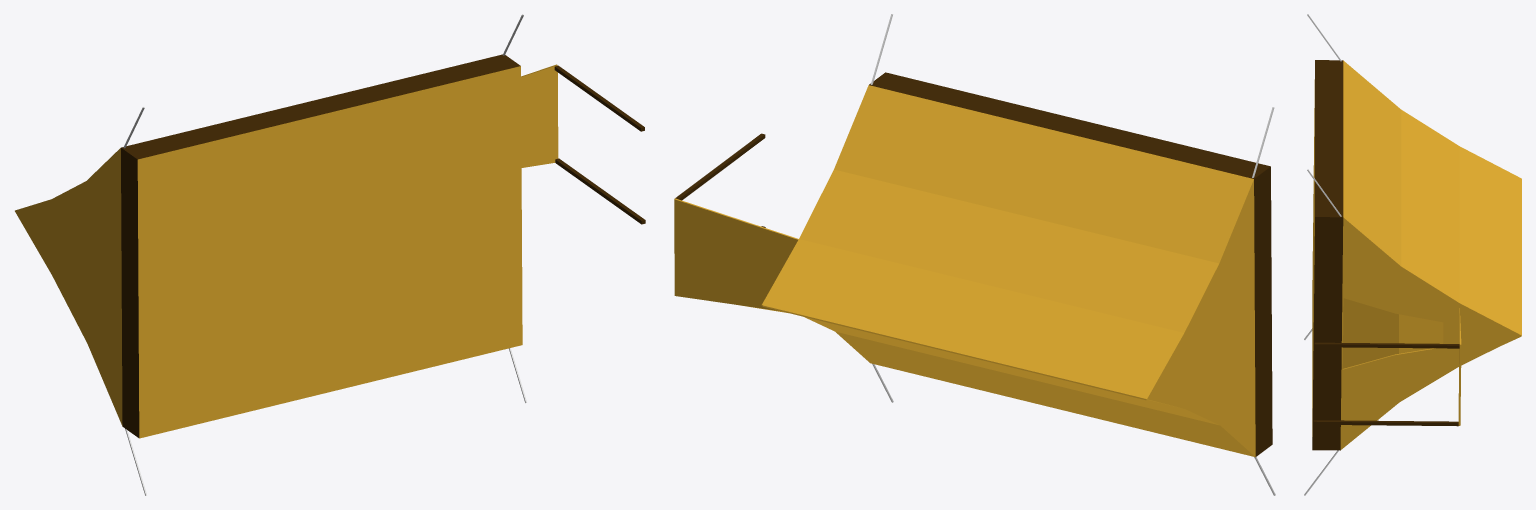
File: ENVI_Tent.fbx
3 renders of one model, left to right at view 1: azimuth 30°, elevation 25°; view 2: azimuth 150°, elevation 25°; view 3: azimuth 270°, elevation 25°, orthographic. The views are drawn at different scales.
Parts seen in each view (by area): view 1: Tent; view 2: Tent; view 3: Tent.
Boxes of the visible parts, box(x1,y1,x2,y2) form: Tent: box(15, 14, 645, 495); Tent: box(674, 14, 1275, 495); Tent: box(1304, 14, 1521, 495).
Size of the model in its own units: 650 by 475 by 288.
